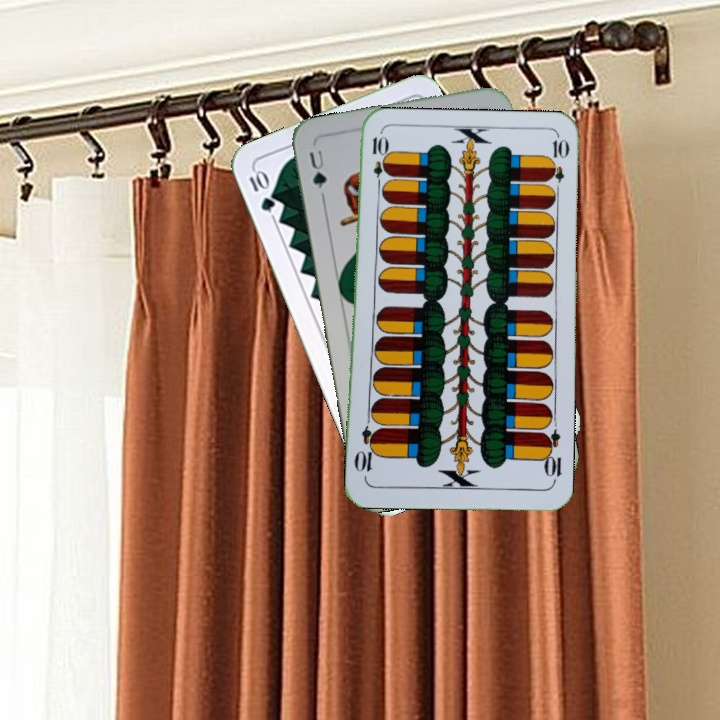E10: (538, 426, 564, 486), (368, 132, 386, 192)
G10: (245, 164, 278, 214)
GU: (305, 144, 329, 191)
